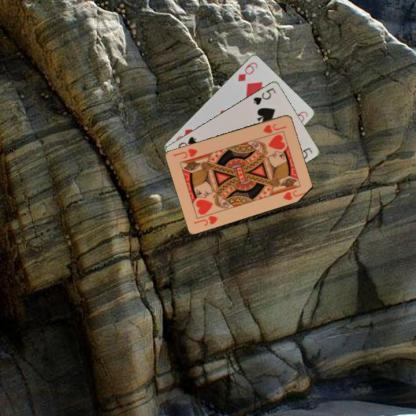5s: (250, 84, 278, 106)
6d: (235, 60, 259, 82)
Jh: (191, 213, 220, 227), (260, 121, 288, 134)
